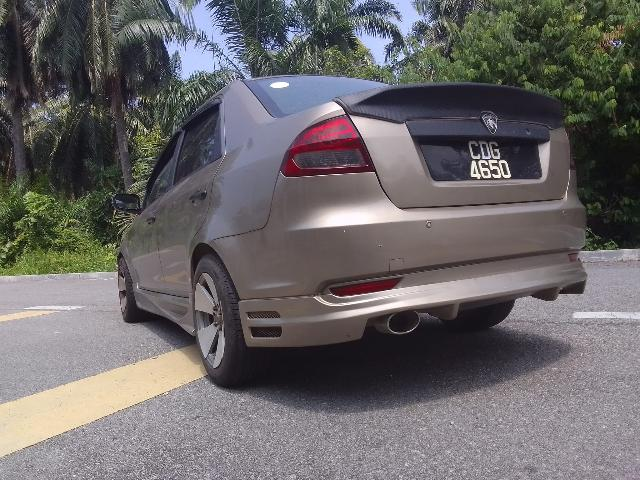License_Plate: (428, 131, 536, 184)
car: (113, 64, 592, 385)
